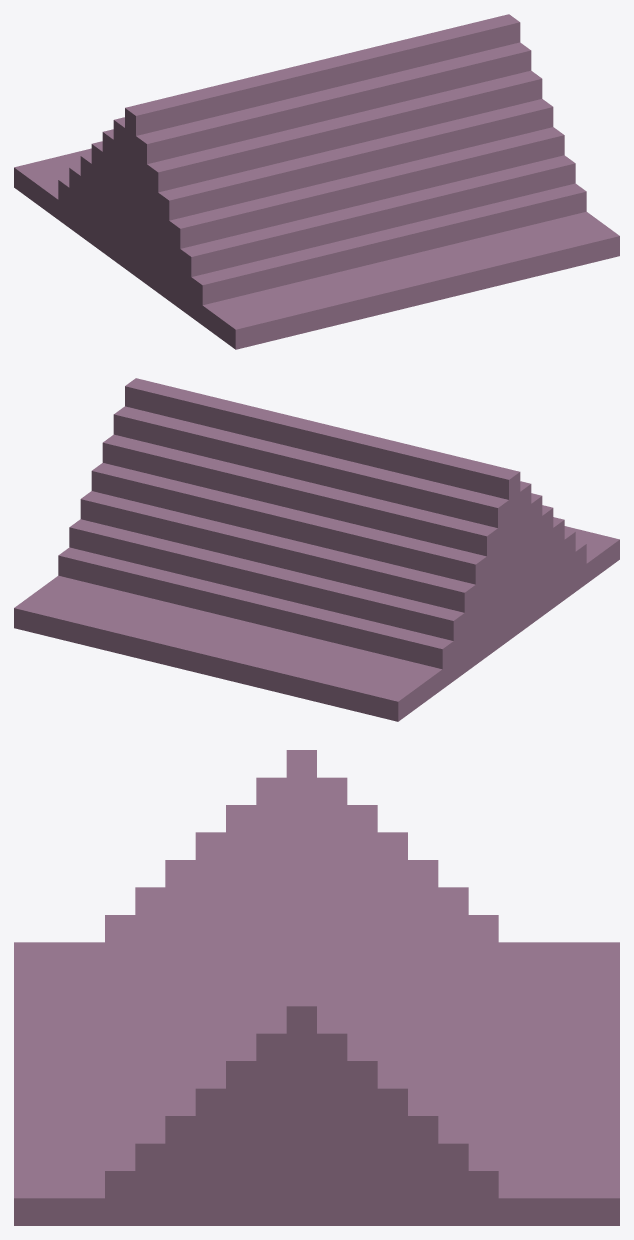
File: alien-biosphere-ridge-tile-73c7ba8c__22756.glb
3 views of the same model, one above another, from view 1: azimuth 30°, elevation 25°; view 2: azimuth 150°, elevation 25°; view 3: azimuth 270°, elevation 25° (orthographic). The views are drawn at different scales.
Visible parts, largest first — view 1: ridge-tile; view 2: ridge-tile; view 3: ridge-tile.
Part boxes in pixels (x1,y1,x2,y2): ridge-tile: [14, 14, 619, 349]; ridge-tile: [14, 378, 619, 721]; ridge-tile: [14, 750, 619, 1225].
Bounding box in the file's own units: 4 × 1.6 × 4.
